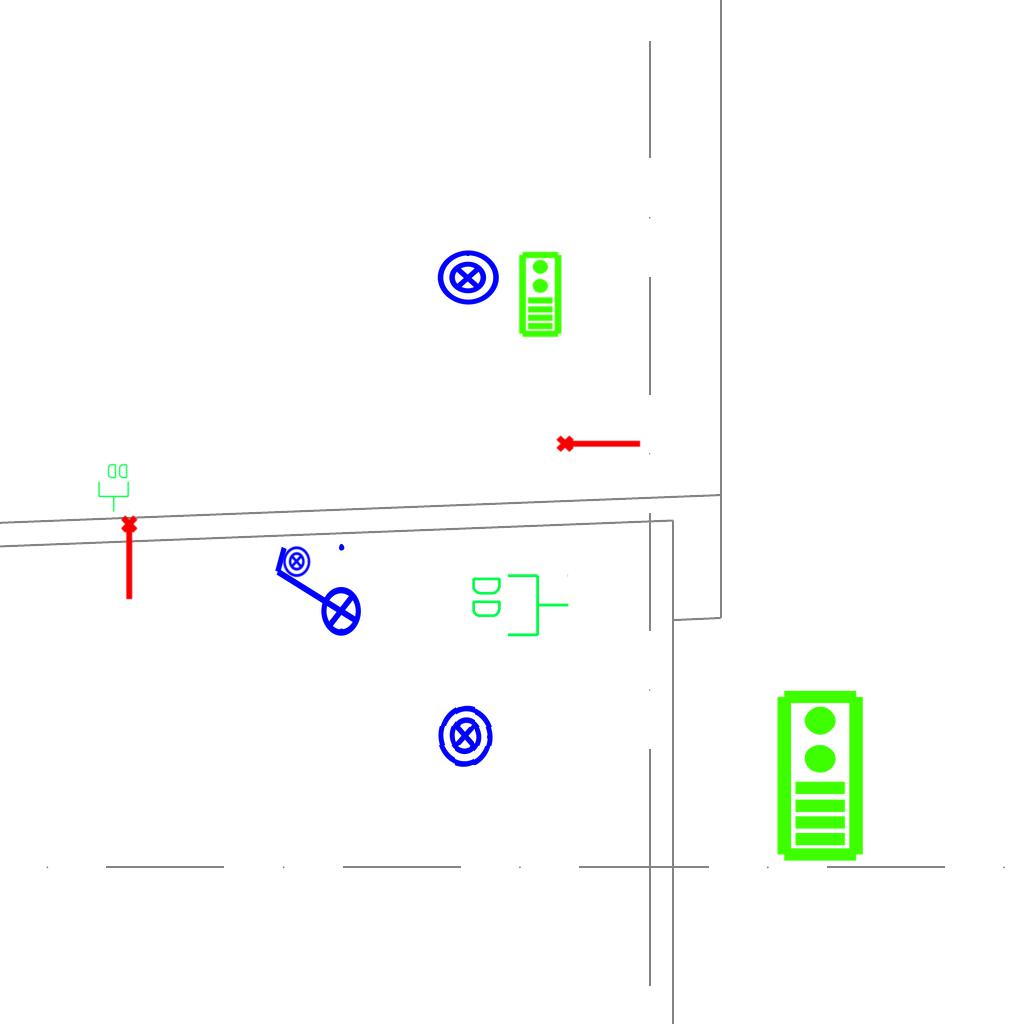ASR_Ansaugoeffnung: (119, 514, 142, 602), (555, 431, 643, 454)
Ausschalter_beleuchtet: (267, 538, 363, 650)
Datenanschluss_zweifach: (468, 570, 571, 639), (97, 462, 131, 513)
Gegensprechanlage_mit_Video: (771, 687, 866, 863), (516, 250, 563, 338)
Taster_beleuchtet: (430, 701, 500, 771), (435, 245, 501, 311), (280, 545, 313, 578)
